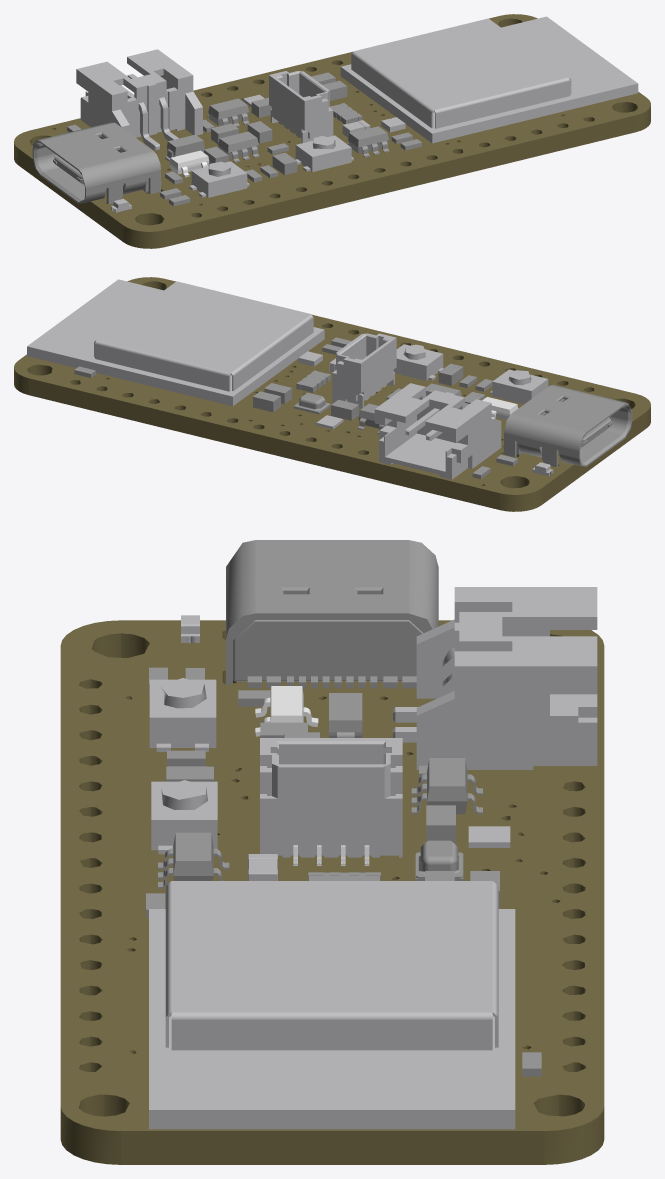
File: ada-5303.glb
3 views of the same model, one above another, from view 1: azimuth 30°, elevation 25°; view 2: azimuth 150°, elevation 25°; view 3: azimuth 270°, elevation 25° (orthographic). The views are drawn at different scales.
Visible parts, largest first — view 1: 0.5833333333333334_0.5833333333333334_0.5833333333333334_0.8, 0.16666666666666666_0.16666666666666666_0.08333333333333333_, 0.3333333333333333_0.3333333333333333_0.3333333333333333_0, 0.9166666666666666_0.9166666666666666_0.9166666666666666_0.8; view 2: 0.5833333333333334_0.5833333333333334_0.5833333333333334_0.8, 0.16666666666666666_0.16666666666666666_0.08333333333333333_, 0.3333333333333333_0.3333333333333333_0.3333333333333333_0, 0.9166666666666666_0.9166666666666666_0.9166666666666666_0.8; view 3: 0.5833333333333334_0.5833333333333334_0.5833333333333334_0.8, 0.16666666666666666_0.16666666666666666_0.08333333333333333_, 0.3333333333333333_0.3333333333333333_0.3333333333333333_0, 0.9166666666666666_0.9166666666666666_0.9166666666666666_0.8.
Part boxes in pixels (x1,y1,x2,y2): 0.5833333333333334_0.5833333333333334_0.5833333333333334_0.8: [55, 16, 638, 212]; 0.16666666666666666_0.16666666666666666_0.08333333333333333_: [14, 14, 650, 248]; 0.3333333333333333_0.3333333333333333_0.3333333333333333_0: [32, 72, 421, 206]; 0.9166666666666666_0.9166666666666666_0.9166666666666666_0.8: [169, 150, 209, 177]; 0.5833333333333334_0.5833333333333334_0.5833333333333334_0.8: [27, 279, 610, 479]; 0.16666666666666666_0.16666666666666666_0.08333333333333333_: [14, 277, 650, 511]; 0.3333333333333333_0.3333333333333333_0.3333333333333333_0: [74, 337, 632, 479]; 0.9166666666666666_0.9166666666666666_0.9166666666666666_0.8: [482, 397, 518, 419]; 0.5833333333333334_0.5833333333333334_0.5833333333333334_0.8: [149, 587, 597, 1129]; 0.16666666666666666_0.16666666666666666_0.08333333333333333_: [60, 620, 604, 1164]; 0.3333333333333333_0.3333333333333333_0.3333333333333333_0: [146, 540, 541, 1076]; 0.9166666666666666_0.9166666666666666_0.9166666666666666_0.8: [255, 686, 318, 736].
Size of the model in its own units: 5.19 by 0.637 by 2.29.
